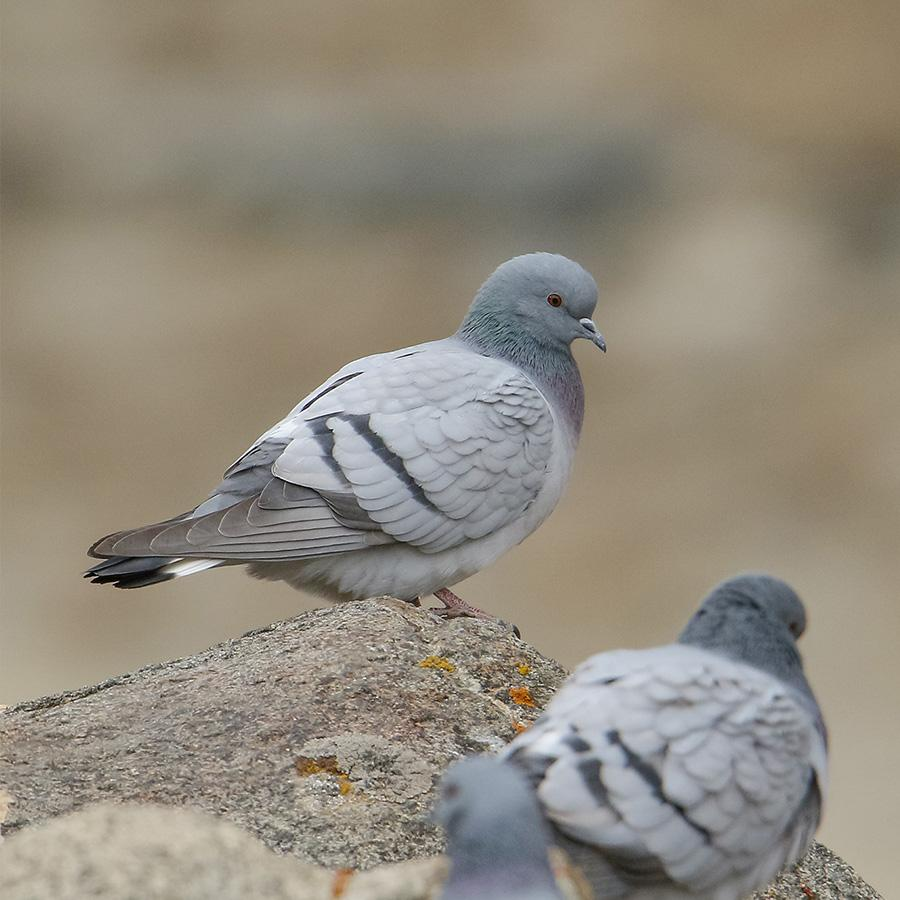Flying Rat: (104, 250, 610, 616), (551, 548, 822, 900), (396, 751, 544, 900)
